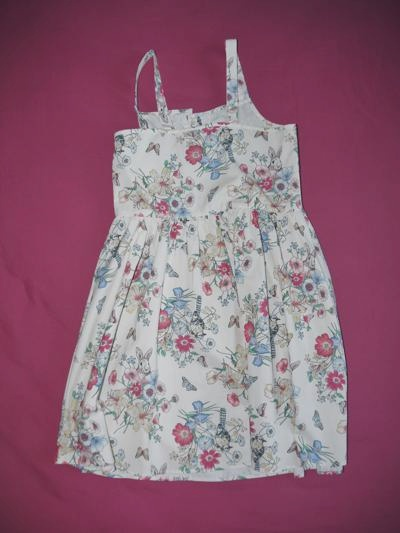Dress: (51, 62, 373, 497)
